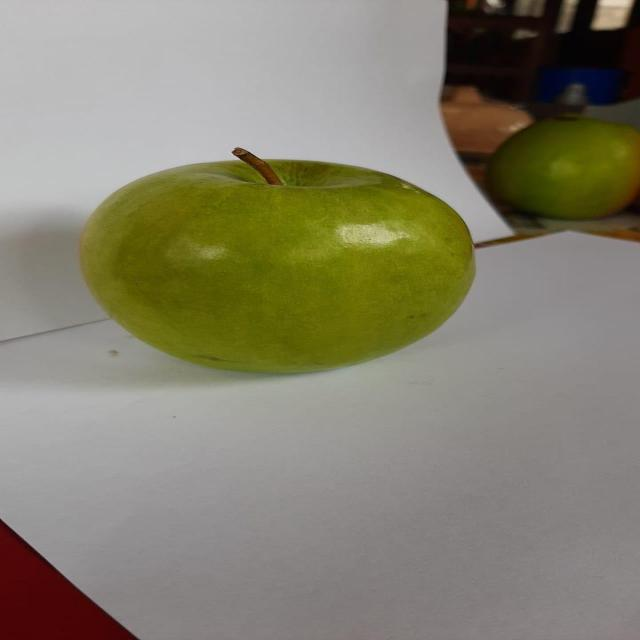Rotten Apple: (61, 143, 488, 387)
